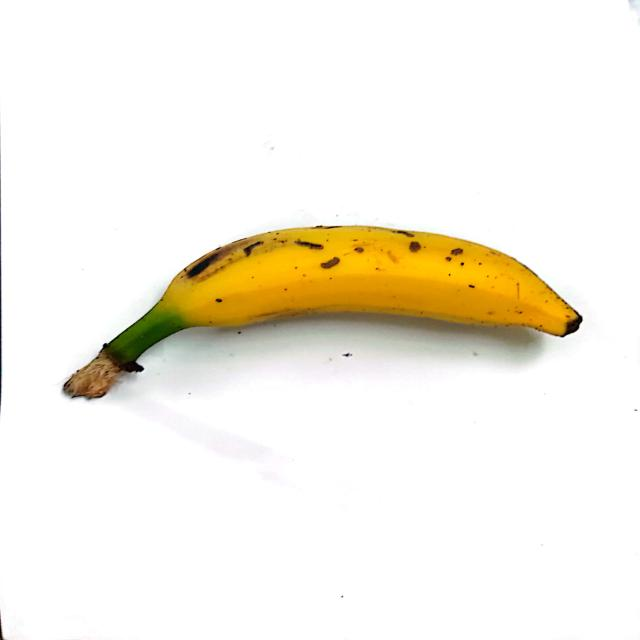fresh_banana: (65, 225, 583, 400)
